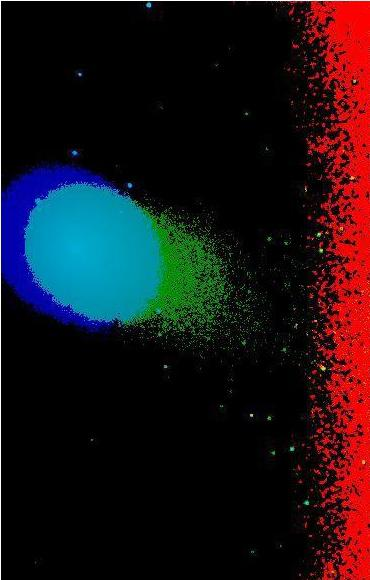star: (236, 398, 266, 428)
